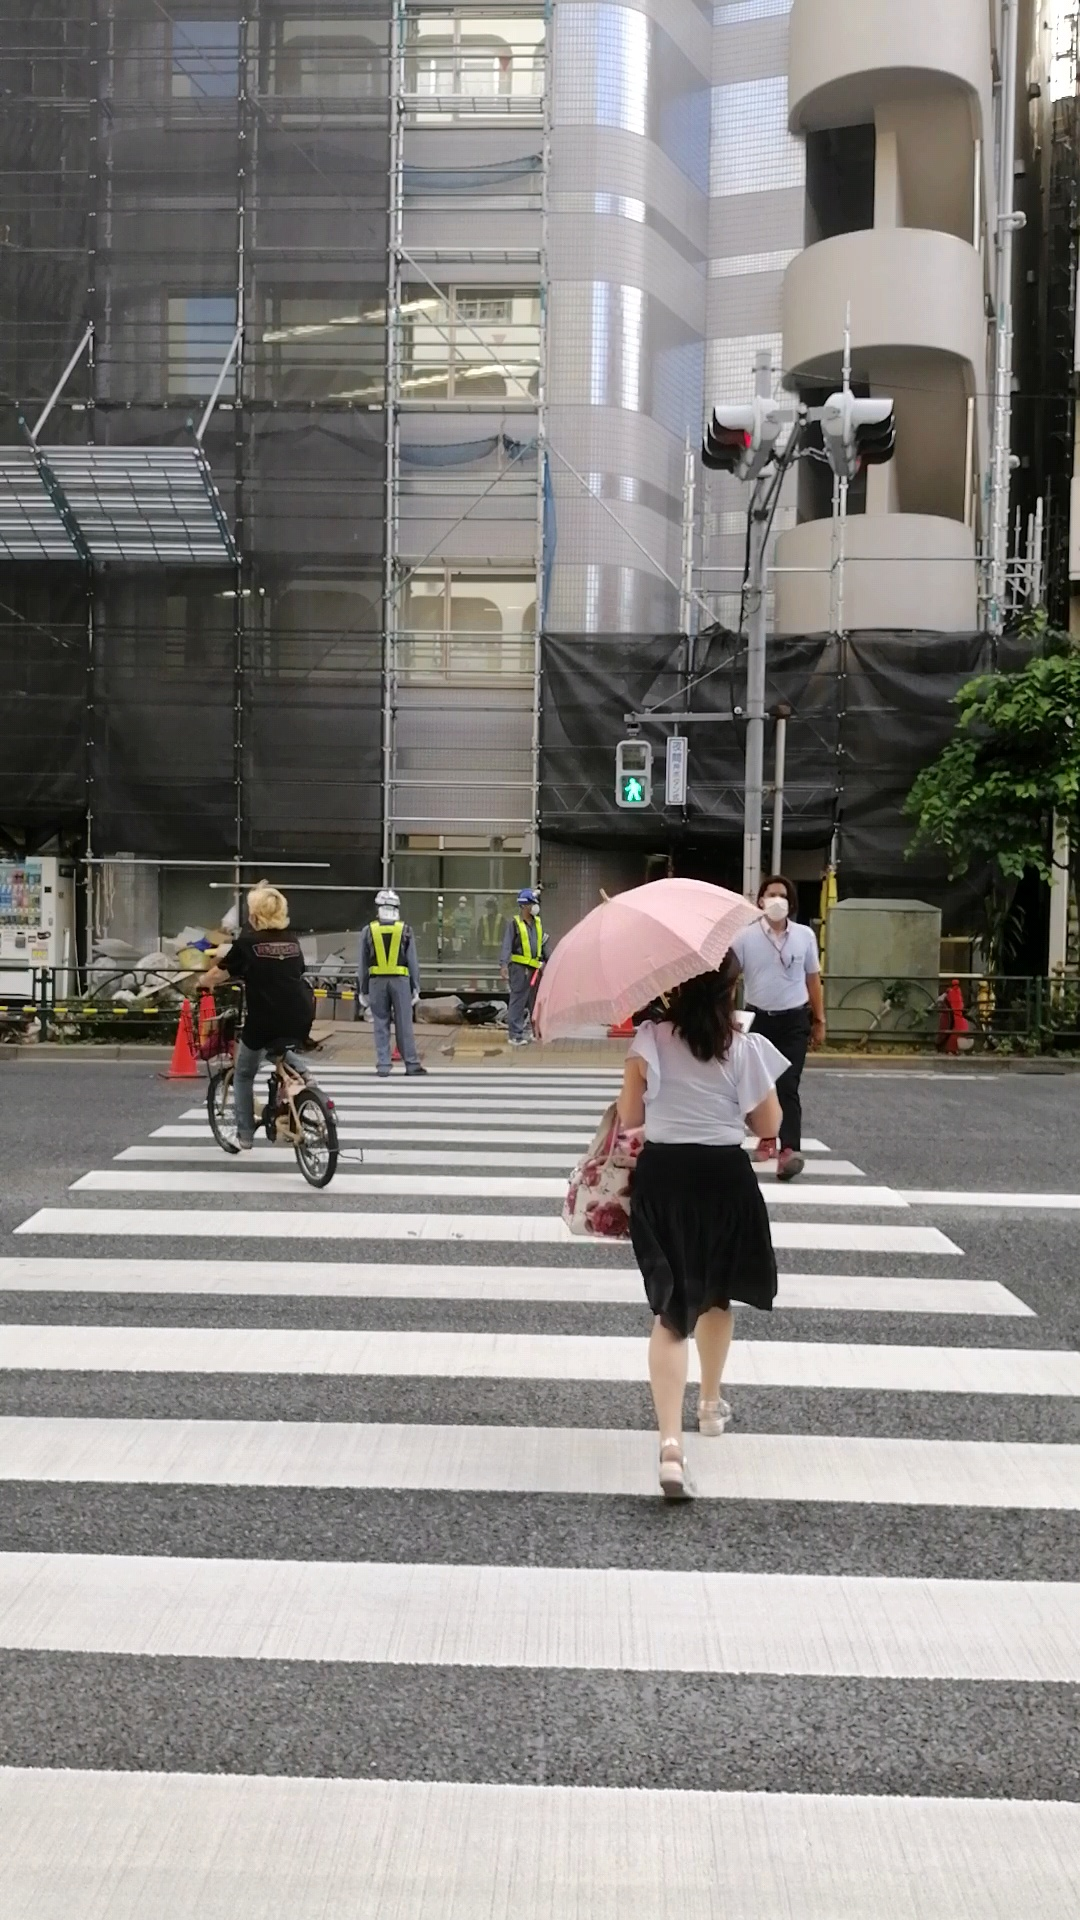green: (613, 738, 651, 808)
